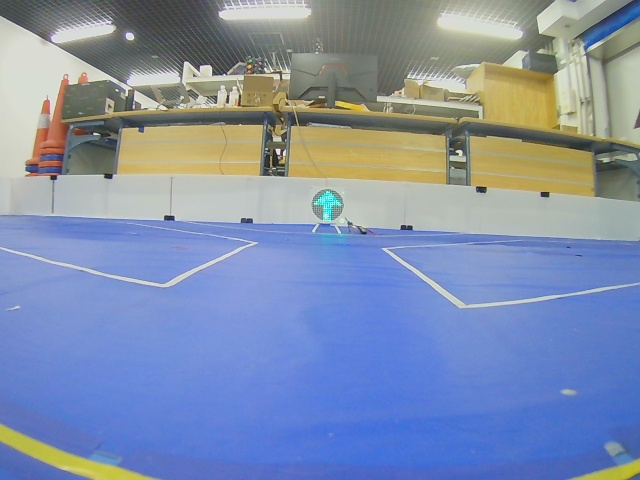straight_green: (311, 189, 344, 222)
